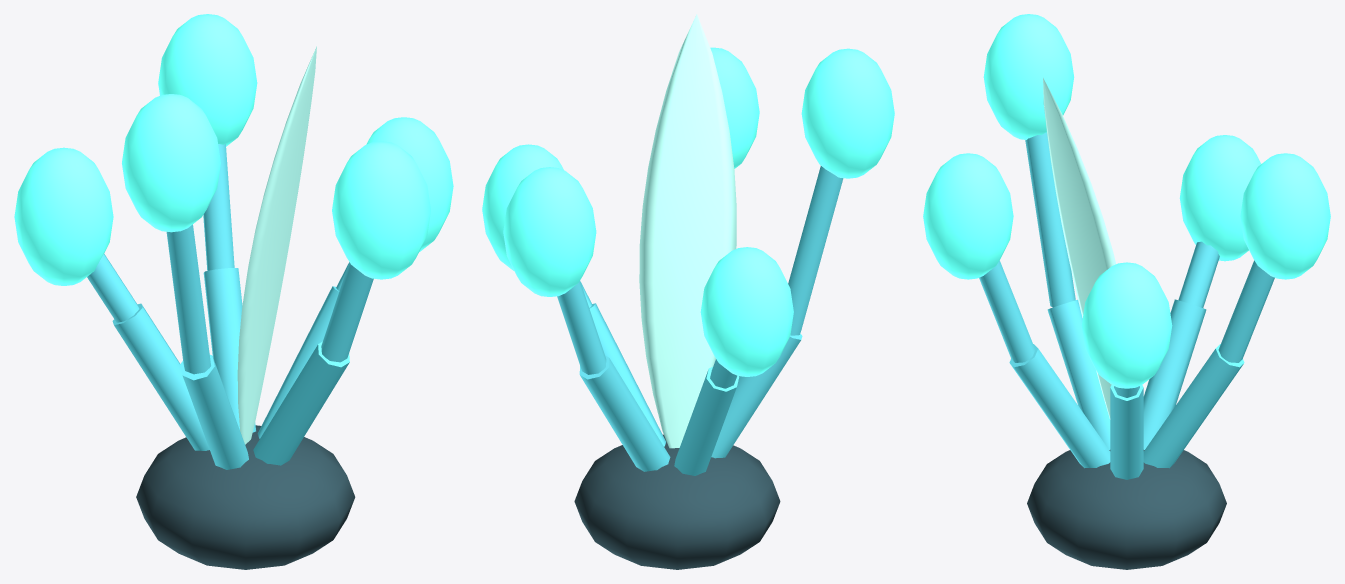
File: cave-coral.glb
3 renders of one model, left to right at view 1: azimuth 30°, elevation 25°; view 2: azimuth 150°, elevation 25°; view 3: azimuth 270°, elevation 25°, orthographic. The views are drawn at different scales.
Visible parts, largest first — view 1: Vesper / cave-coral; view 2: Vesper / cave-coral; view 3: Vesper / cave-coral.
Boxes of the visible parts, bbox=[...] form: Vesper / cave-coral: bbox=[14, 14, 453, 569]; Vesper / cave-coral: bbox=[482, 14, 894, 569]; Vesper / cave-coral: bbox=[923, 14, 1330, 569].
Size of the model in its own units: 1.65 by 2.26 by 1.71.
